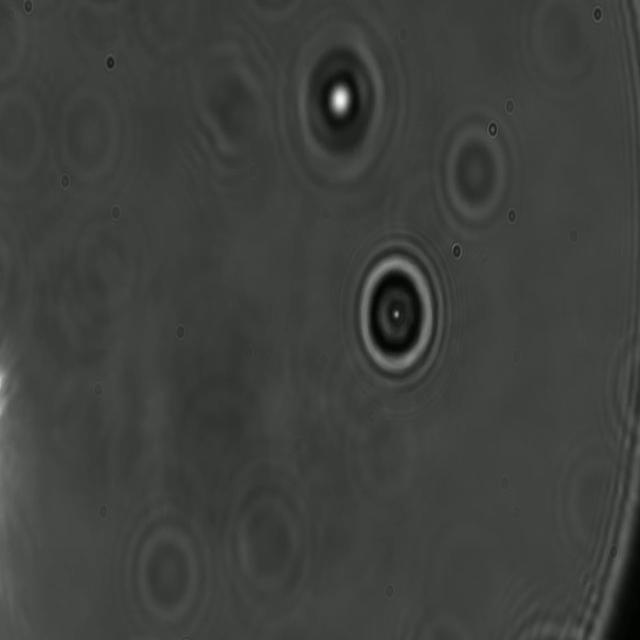LCELL: (347, 238, 447, 392)
